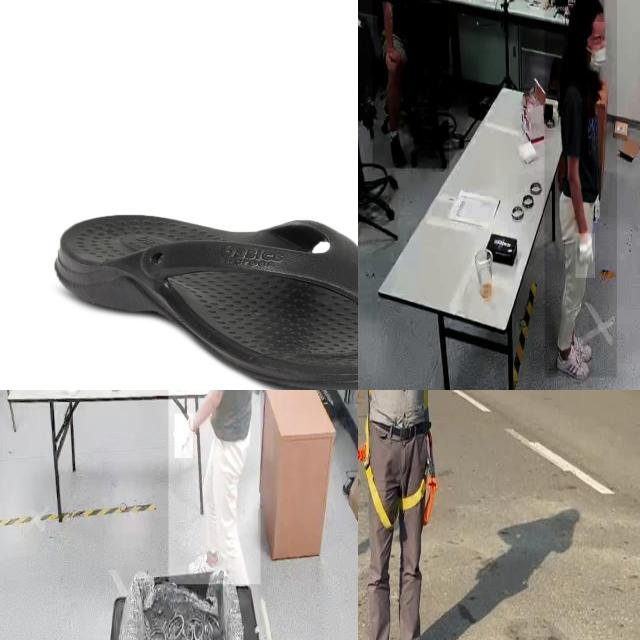Harness: (358, 420, 391, 528), (401, 465, 439, 526)
Sandals: (52, 213, 358, 390)
face_mask: (580, 8, 612, 76)
hand_glove: (576, 233, 596, 279), (174, 413, 193, 459)
hand_noglove: (386, 44, 404, 70)
head_nohelmet: (569, 0, 604, 22)
person: (544, 0, 617, 378), (168, 390, 261, 585), (372, 0, 449, 169)
shoes: (554, 342, 592, 384), (561, 320, 597, 364), (387, 122, 411, 172)
